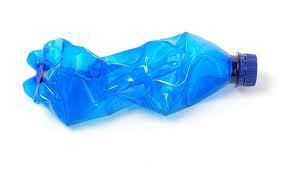plastic: (23, 33, 255, 130)
